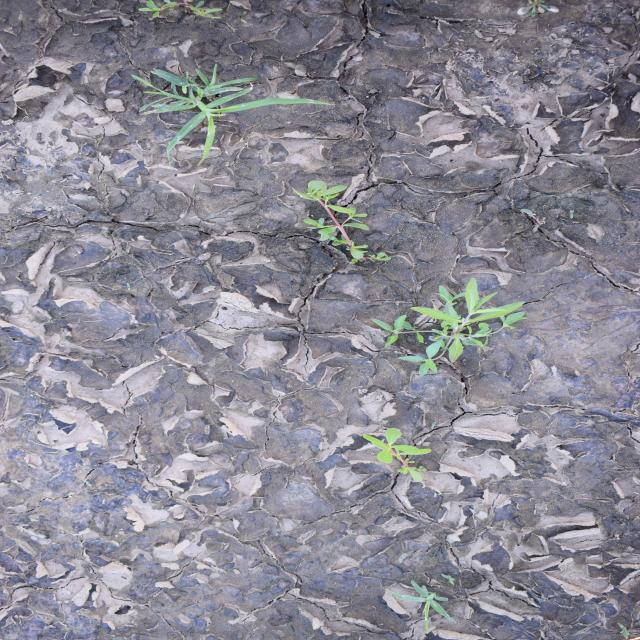Eclipta: (369, 277, 531, 379)
Goosegrass: (129, 63, 339, 171), (383, 580, 458, 634)
Purslane: (291, 178, 394, 266), (361, 426, 432, 484)
